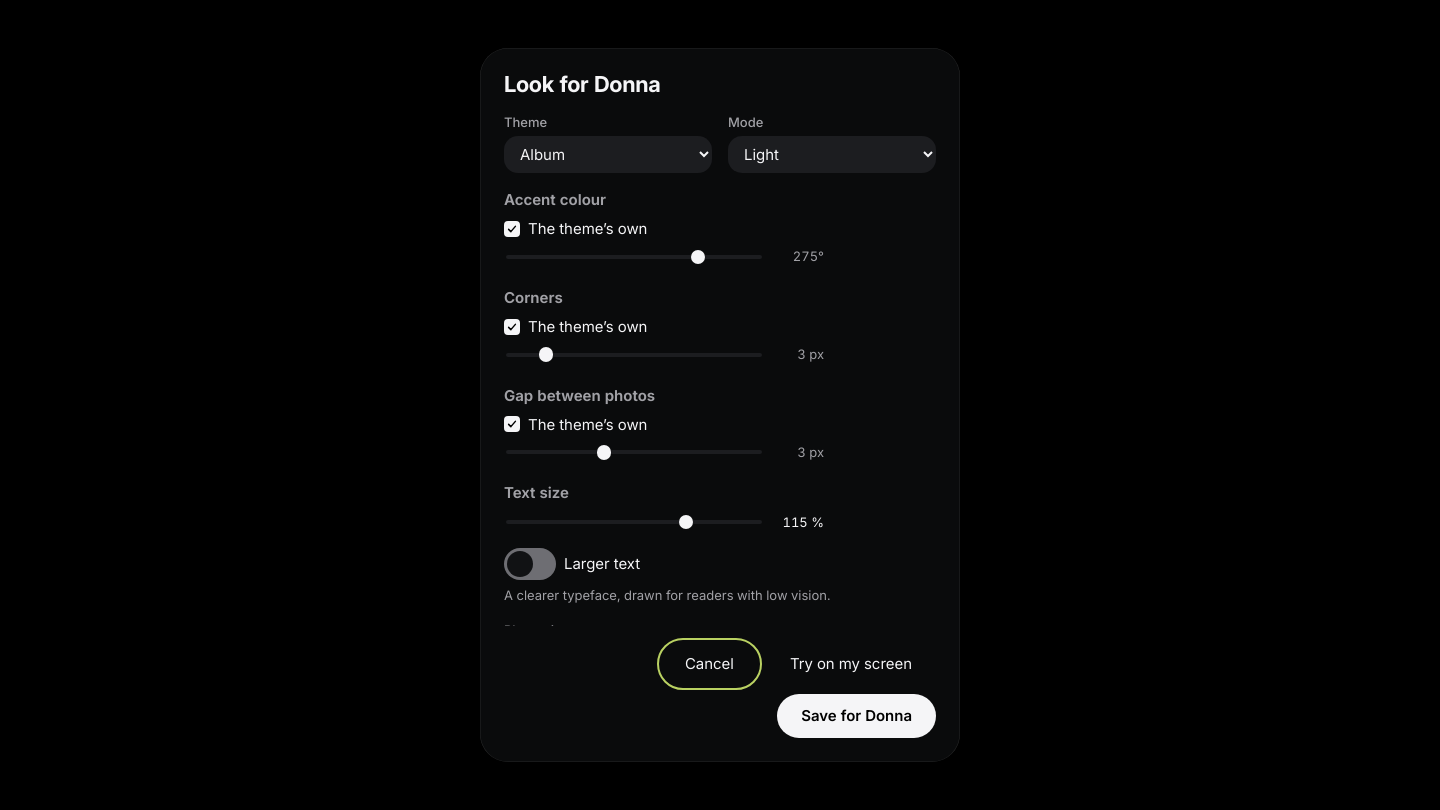
Test: LookForm › Stop trying puts my own look back
Click the button "Try on my screen" at (851, 664), box left=766, top=642, right=936, bottom=686
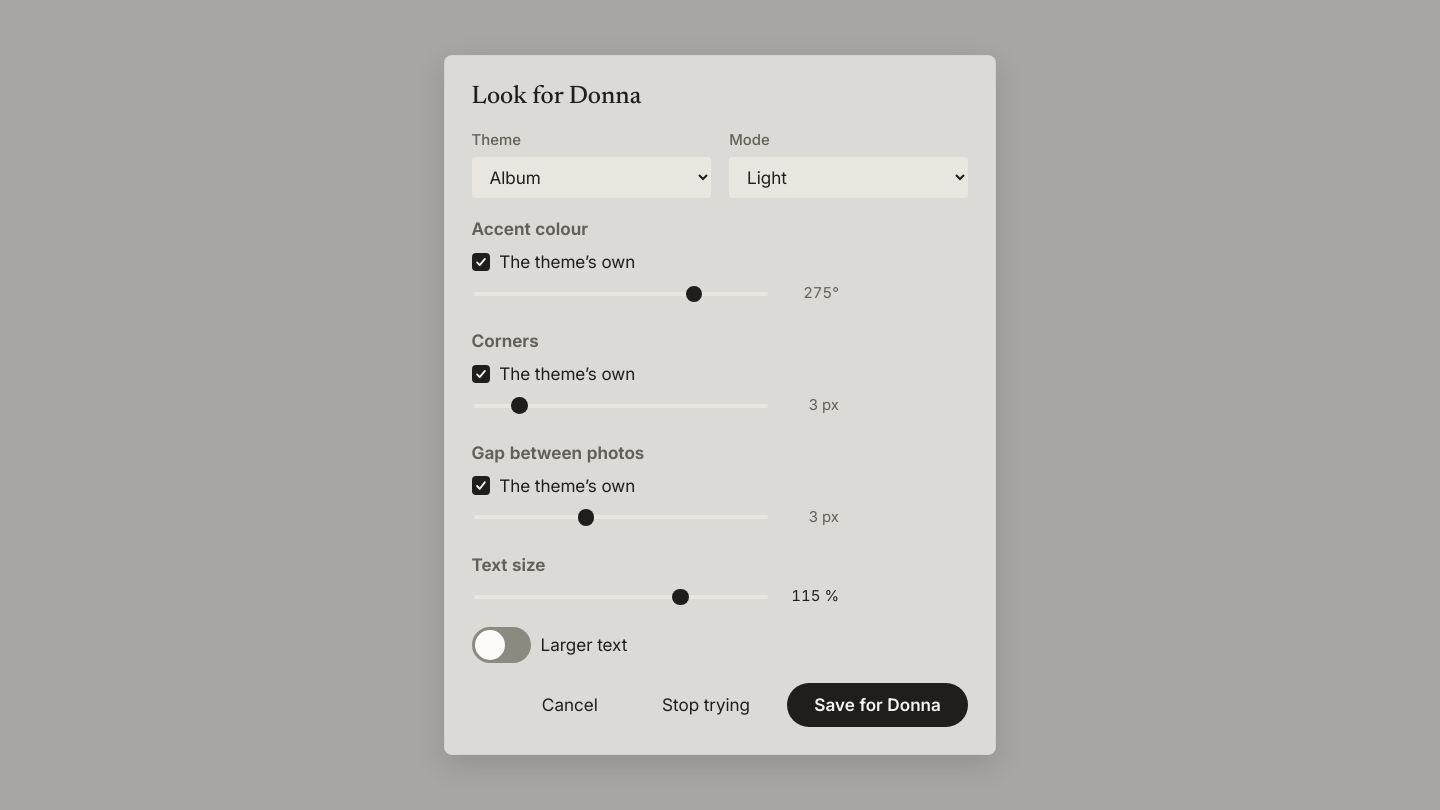
Click the button "Stop trying" at (706, 705), box left=634, top=683, right=778, bottom=727
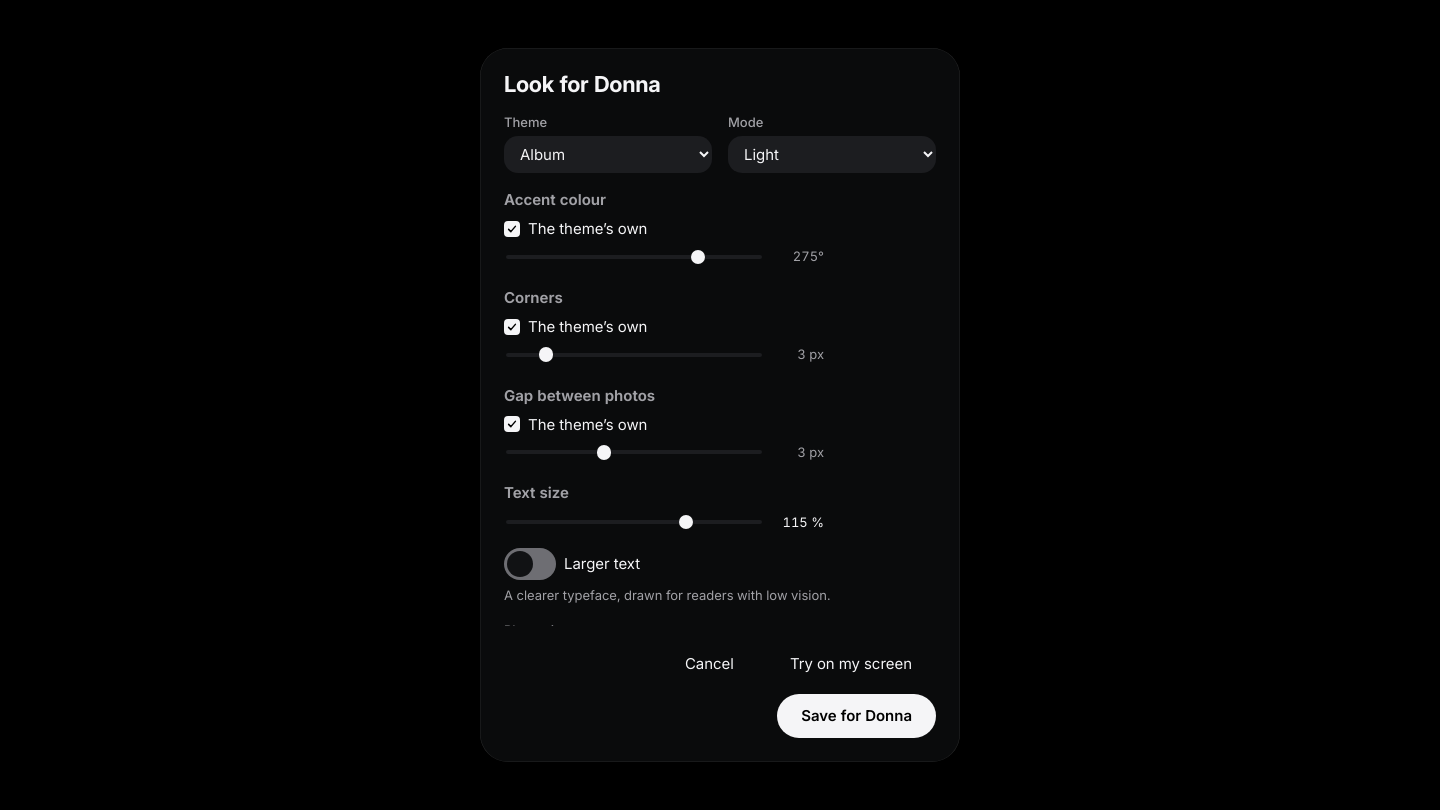
Expected: the button "Try on my screen" is shown, left=766, top=642, right=936, bottom=686
